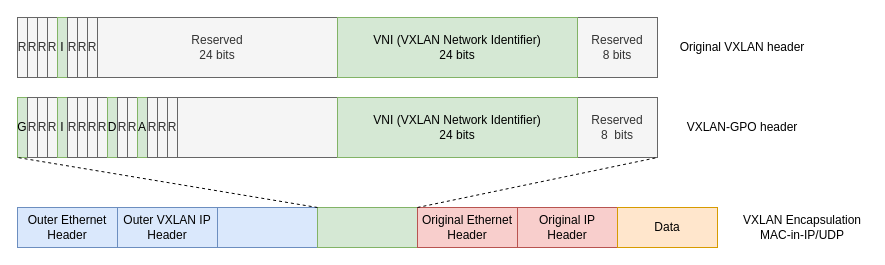
Some shapes in this 885 by 265 pixel diagram are drawn without their labels. Each missing label, with the centre of its shape:
Group Policy ID 16 bits: the point at 257,127
Outer VXLAN UDP Header: the point at 267,227
VXLAN Header: the point at 367,227
